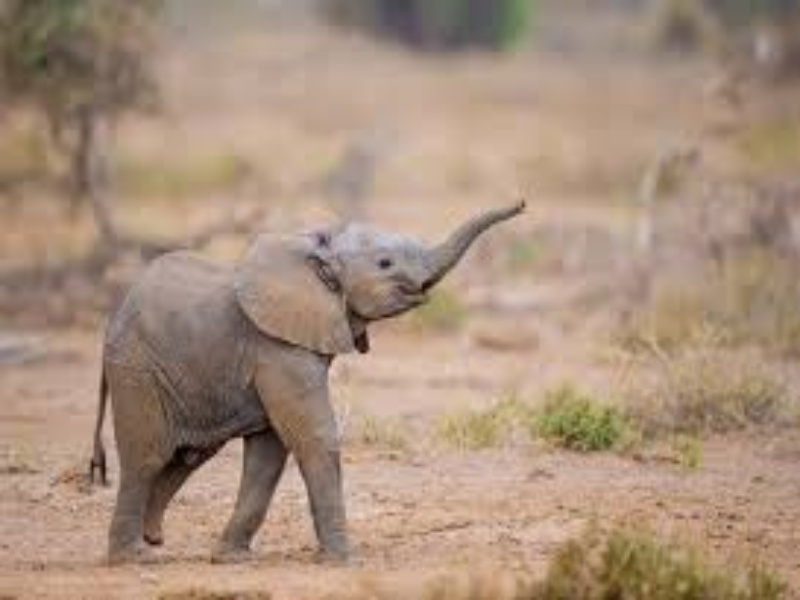elephant: (73, 184, 526, 555)
